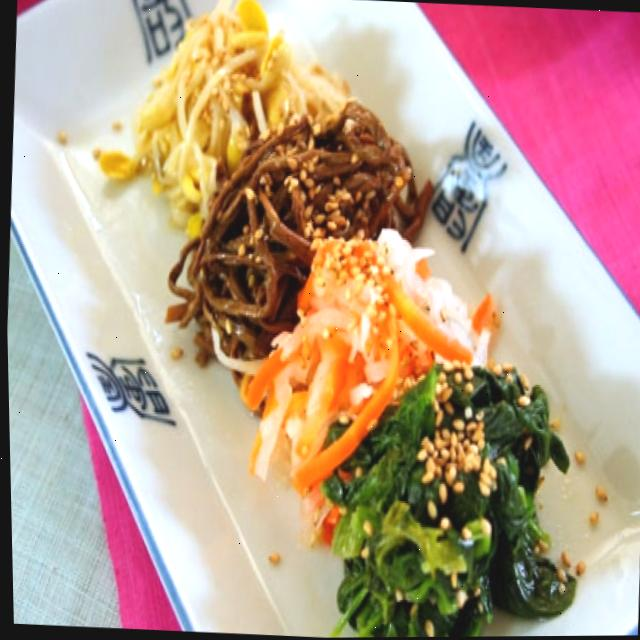面条主食: (124, 53, 588, 553)
